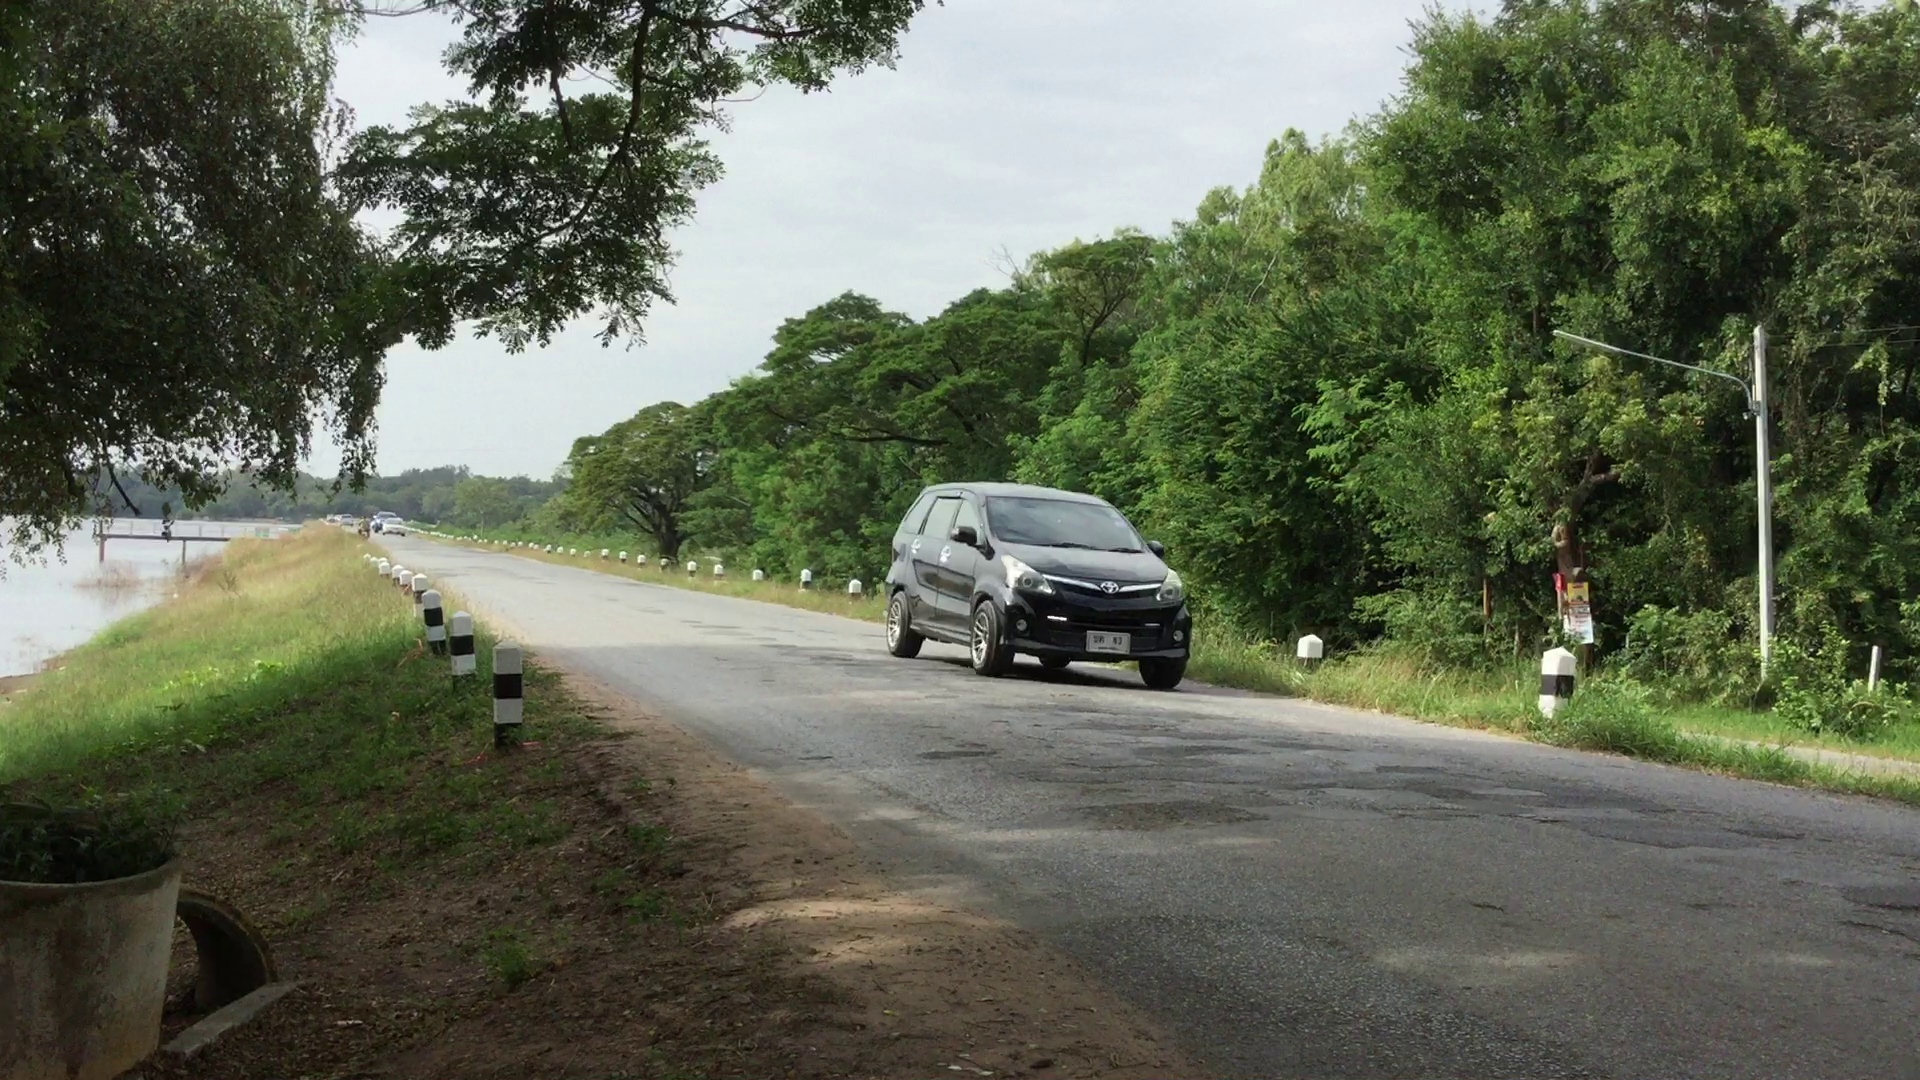car: (878, 480, 1203, 694)
post: (487, 637, 531, 740), (444, 611, 485, 688), (1536, 644, 1578, 709), (419, 589, 448, 644), (1294, 632, 1331, 665)
